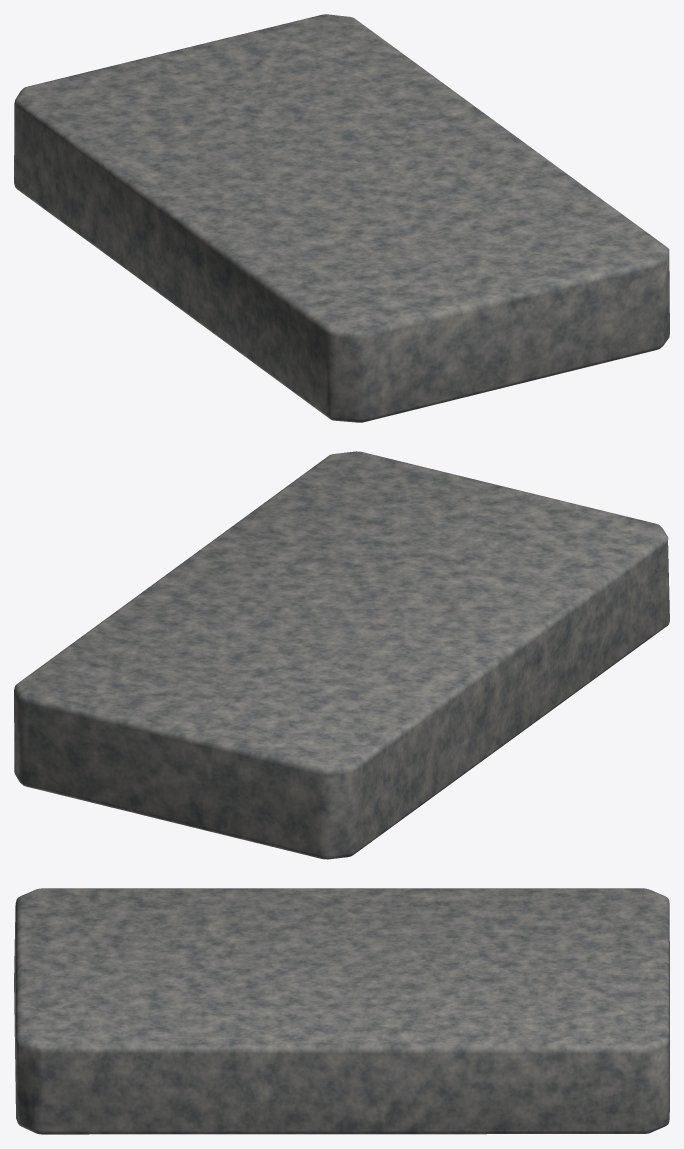
File: sinking_basalt_wide.obj
The picture shows the model from 3 angles, top to bottom: view 1: azimuth 30°, elevation 25°; view 2: azimuth 150°, elevation 25°; view 3: azimuth 270°, elevation 25°; orthographic projection. The views are drawn at different scales.
Parts seen in each view (by area): view 1: sinking_basalt_wide; view 2: sinking_basalt_wide; view 3: sinking_basalt_wide.
Part boxes in pixels (x1,y1,x2,y2): sinking_basalt_wide: [14, 14, 669, 422]; sinking_basalt_wide: [14, 451, 669, 859]; sinking_basalt_wide: [14, 888, 669, 1134].
Size of the model in its own units: 7.01 by 1.8 by 12.02.
1 material, 1 textured.
